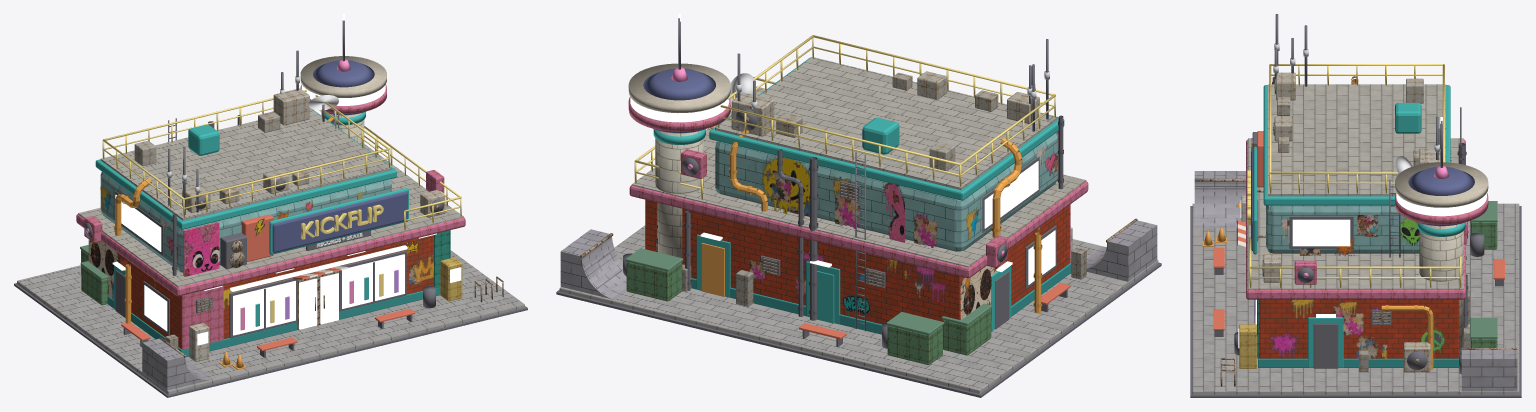
The model's file is KickflipShop.glb.
3 views of the same model, side by side, from view 1: azimuth 30°, elevation 25°; view 2: azimuth 150°, elevation 25°; view 3: azimuth 270°, elevation 25° (orthographic). The views are drawn at different scales.
Parts seen in each view (by area): view 1: Base.001, Base_Edge.001, Slab, Drum_Glass, Ground, Drum_Knob, Mural_PinkBunny, Drum_Top, Shop_DoorFrame, Slab_Lt0; view 2: Base.001, Base_Edge.001, Slab, Ground, Mural_PinkBunny, Mural_BackBunny, Drum_Glass, Drum_Top, Drum_Knob, Shop_DoorFrame; view 3: Base.001, Base_Edge.001, Slab, Ground, Mural_PinkBunny, Drum_Glass, Drum_Top, Drum_Knob, Shop_DoorFrame, Mural_BackBunny.
Part boxes in pixels (x1,y1,x2,y2): Base.001: (17, 108, 524, 394); Base_Edge.001: (14, 20, 527, 397); Slab: (76, 84, 465, 361); Drum_Glass: (115, 84, 404, 335); Ground: (90, 235, 433, 348); Drum_Knob: (86, 59, 415, 369); Mural_PinkBunny: (88, 185, 433, 308); Drum_Top: (300, 56, 386, 97); Shop_DoorFrame: (159, 184, 503, 357); Slab_Lt0: (112, 233, 436, 291); Base.001: (559, 57, 1158, 393); Base_Edge.001: (556, 18, 1161, 397); Slab: (626, 71, 1088, 364); Ground: (645, 199, 1068, 324); Mural_PinkBunny: (656, 145, 1057, 319); Mural_BackBunny: (761, 152, 1055, 316); Drum_Glass: (630, 97, 1055, 284); Drum_Top: (628, 63, 730, 113); Drum_Knob: (599, 67, 1103, 339); Shop_DoorFrame: (580, 117, 1137, 287); Base.001: (1192, 84, 1519, 394); Base_Edge.001: (1190, 14, 1521, 397); Slab: (1239, 72, 1497, 372); Ground: (1259, 299, 1459, 358); Mural_PinkBunny: (1270, 214, 1438, 358); Drum_Glass: (1255, 193, 1486, 324); Drum_Top: (1395, 162, 1488, 207); Drum_Knob: (1202, 156, 1504, 330); Shop_DoorFrame: (1194, 84, 1517, 386); Mural_BackBunny: (1400, 218, 1444, 353).
Bounding box in the file's own units: 20.2 × 12.15 × 14.9.
Materials: 12 (7 with a texture image).
